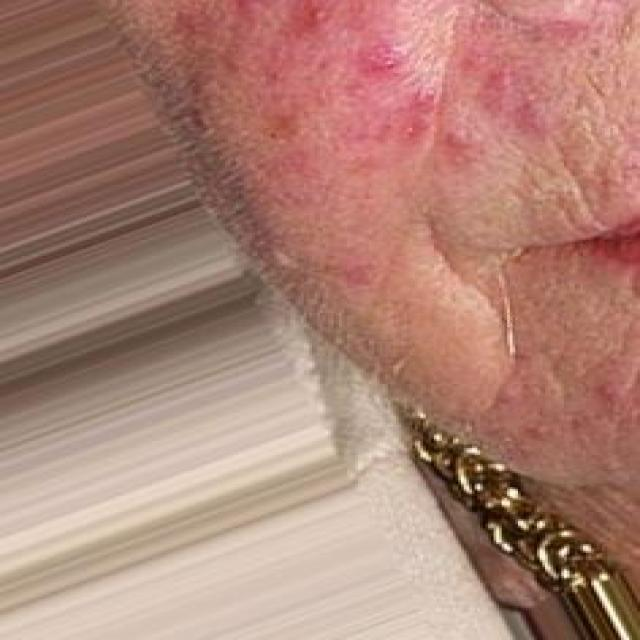Rosacea: (169, 0, 583, 170)
